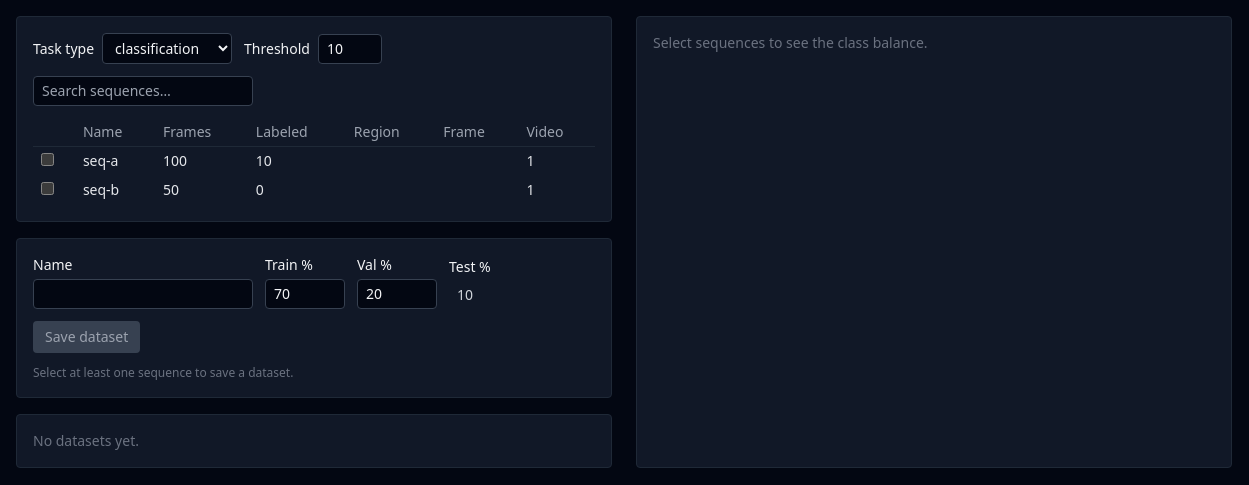
Test: DatasetsPage › disables saving while a create mutation is pending
This screenshot has width=1249, height=485.
Step 1. Click the checkbox named "select seq-a" → (48, 160), box [41,153,54,166]
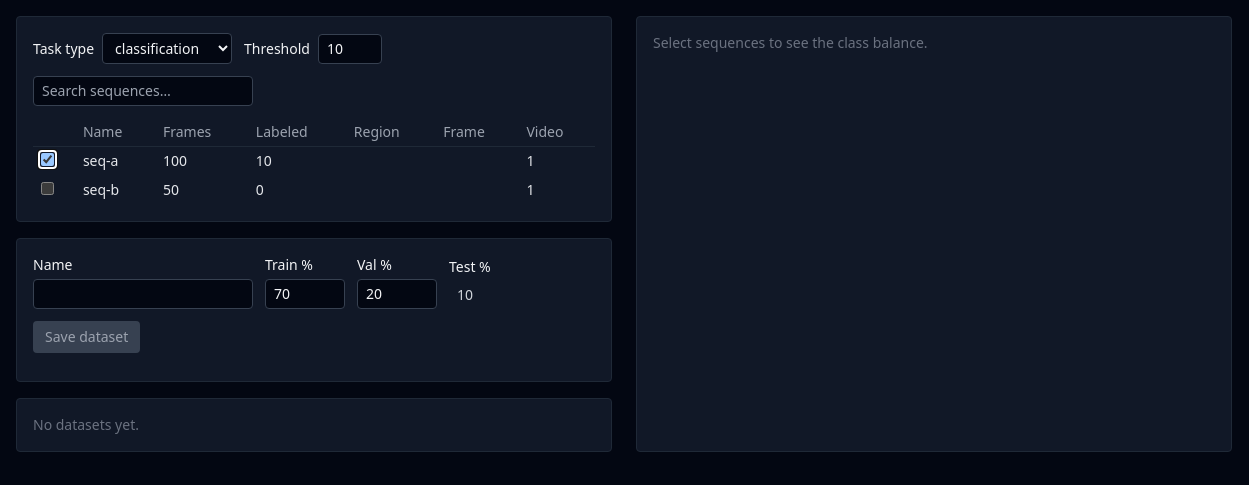
Step 2. Type "my-dataset" into the field labelled "Name" → (143, 294), box [33,279,253,309]
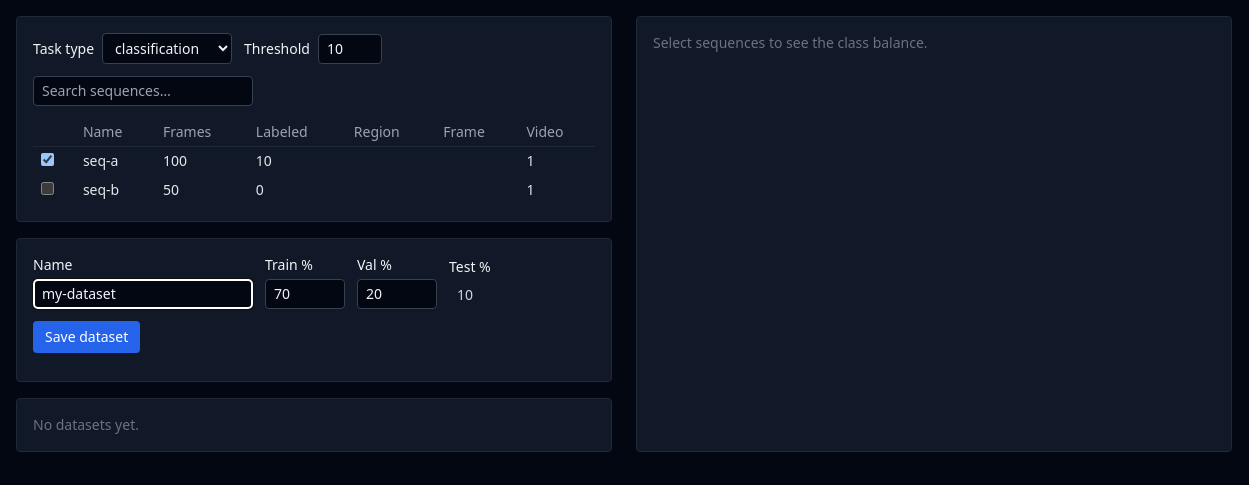
Check: the button "Save dataset" is enabled
Step 3. Click the button "Save dataset" → (87, 337), box [33,321,140,353]
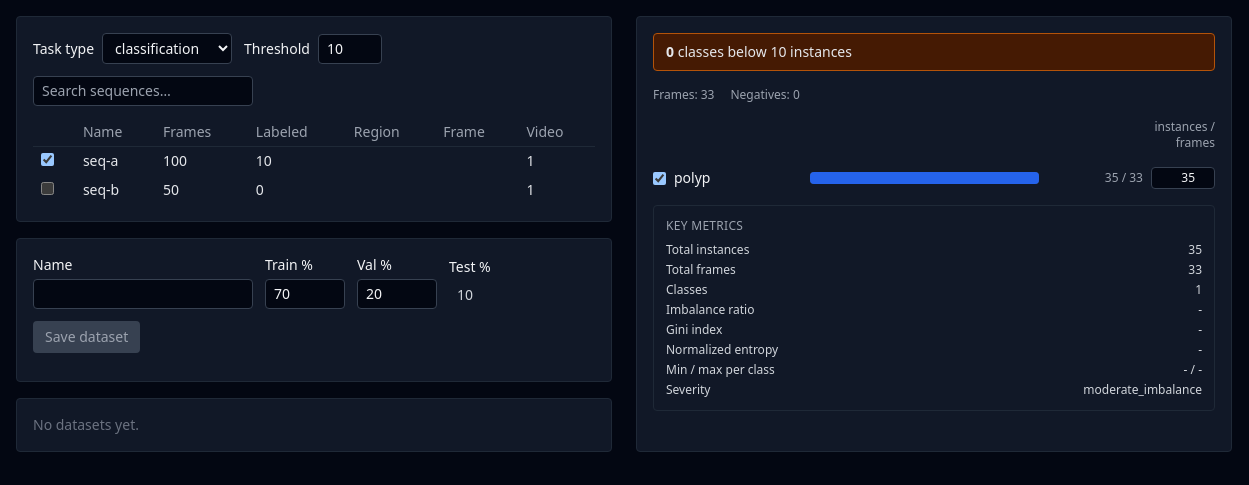
Check: the button "Save dataset" is disabled, box [33,321,140,353]
